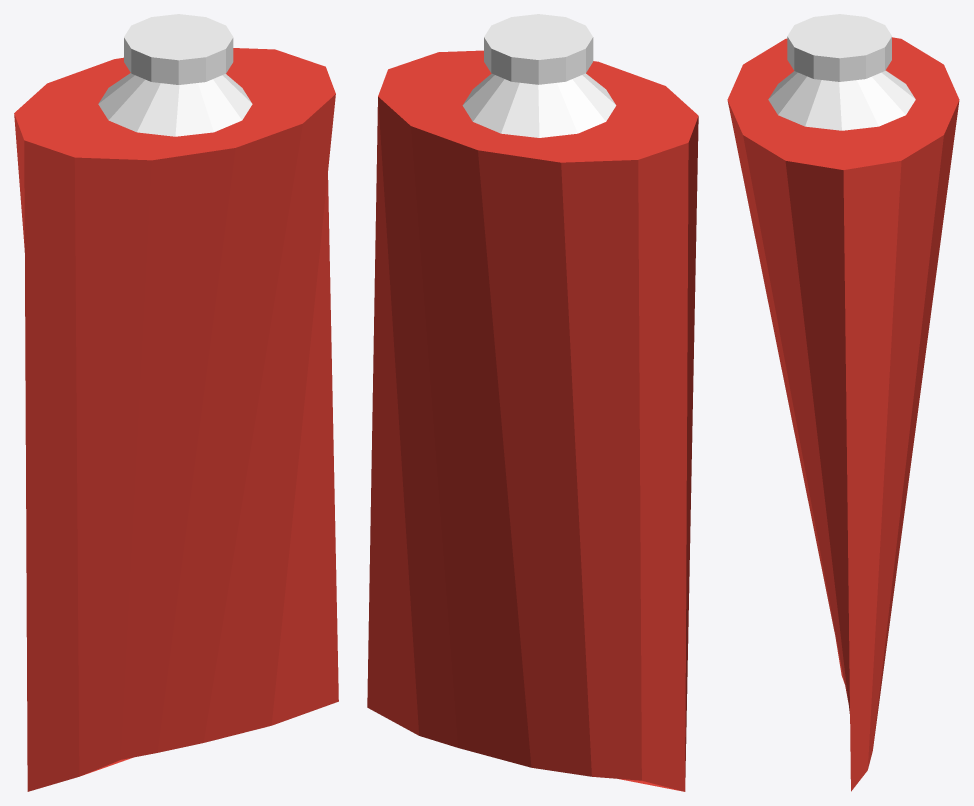
The model's file is tubepigment.fbx.
3 renders of one model, left to right at view 1: azimuth 30°, elevation 25°; view 2: azimuth 150°, elevation 25°; view 3: azimuth 270°, elevation 25°, orthographic. The views are drawn at different scales.
Visible parts, largest first — view 1: mesh_559557462, mesh_132266987, mesh_1776025228; view 2: mesh_559557462, mesh_132266987, mesh_1776025228; view 3: mesh_559557462, mesh_132266987, mesh_1776025228.
Part boxes in pixels (x1,y1,x2,y2): mesh_559557462: [14, 48, 338, 791]; mesh_132266987: [98, 73, 252, 136]; mesh_1776025228: [124, 14, 233, 84]; mesh_559557462: [367, 50, 698, 791]; mesh_132266987: [462, 73, 616, 137]; mesh_1776025228: [484, 14, 593, 84]; mesh_559557462: [727, 37, 959, 791]; mesh_132266987: [768, 70, 915, 130]; mesh_1776025228: [787, 14, 891, 81].
Bounding box in the file's own units: 94 × 203 × 62.
